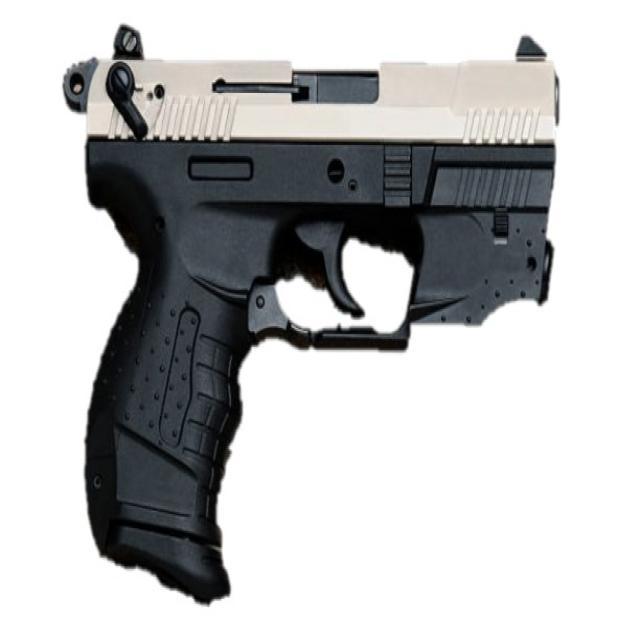pistol: (61, 15, 573, 616)
